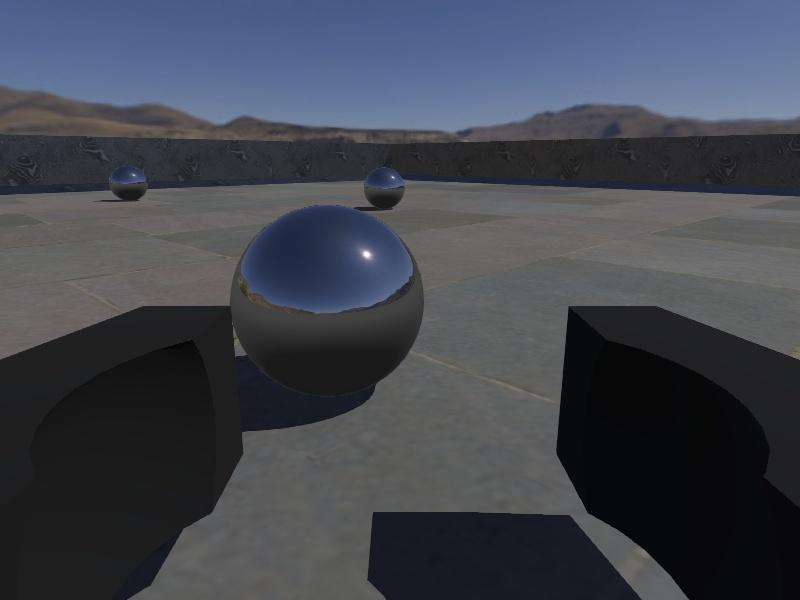steel ball: (230, 204, 425, 398), (363, 166, 405, 209), (109, 165, 148, 203)
